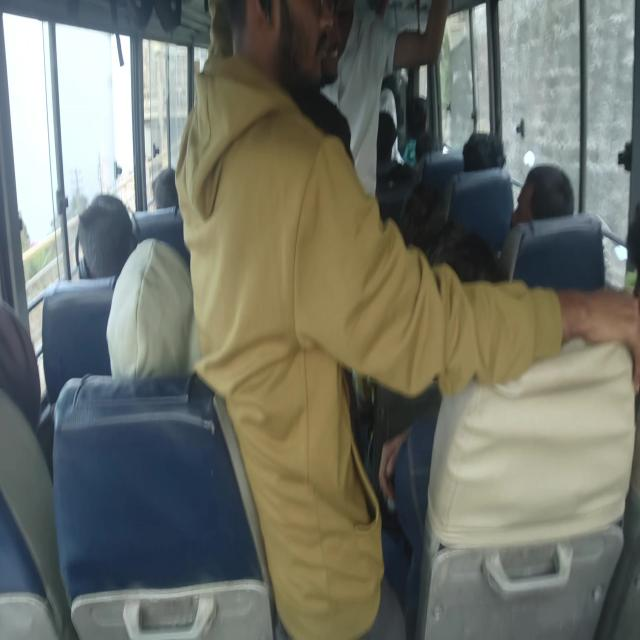person: (29, 201, 362, 634), (179, 32, 291, 230), (0, 447, 64, 638), (421, 232, 511, 359), (39, 278, 119, 409), (108, 258, 187, 389), (508, 214, 606, 293), (0, 296, 41, 437), (447, 168, 514, 253), (75, 194, 138, 282), (510, 163, 574, 226), (132, 205, 188, 268), (315, 0, 352, 83), (377, 162, 421, 229), (461, 131, 509, 174), (420, 149, 464, 192), (152, 166, 180, 210), (377, 110, 398, 164), (415, 130, 437, 164)
